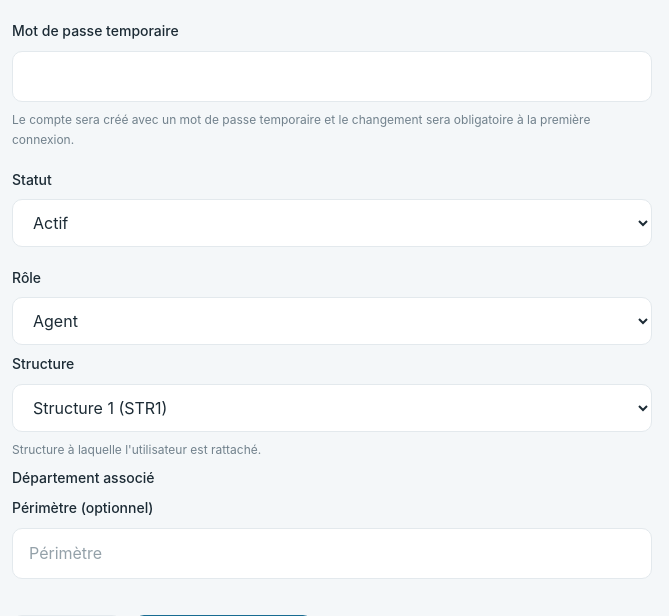
Test case: l'absence de département affiche le message dédié sans être une erreur
The width and height of the screenshot is (669, 616).
(page scrolled)
Select "Structure 1 (STR1)" in the dropdown with test id "user-structure-id" at (332, 408), box [12,384,652,432]
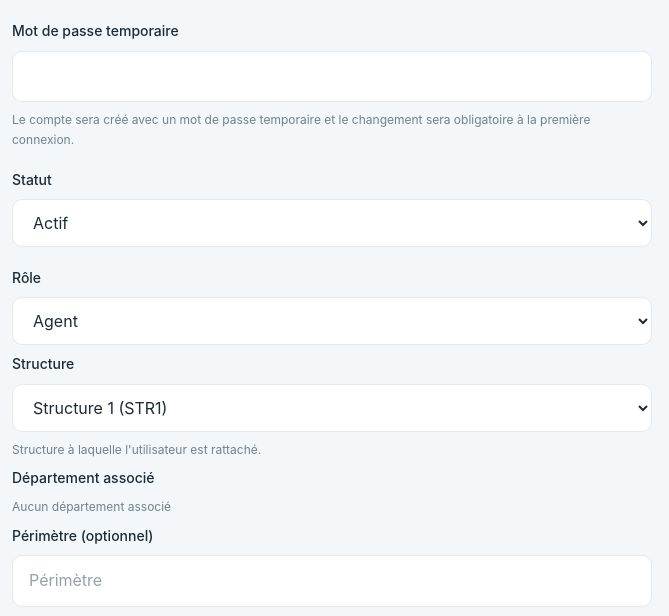
Expected: the message with test id "user-department-empty" reads "Aucun département associé", [12,499,171,514]
